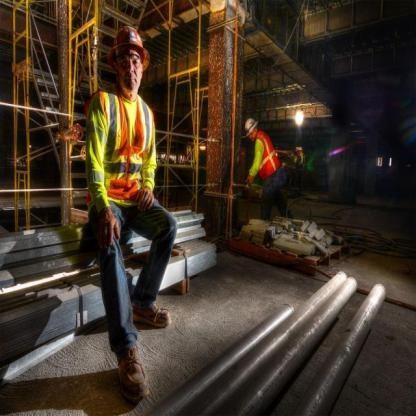red: (103, 22, 157, 66)
vest: (85, 84, 161, 208), (253, 129, 284, 173), (300, 152, 307, 165)
white: (241, 113, 260, 139), (298, 146, 304, 151)
